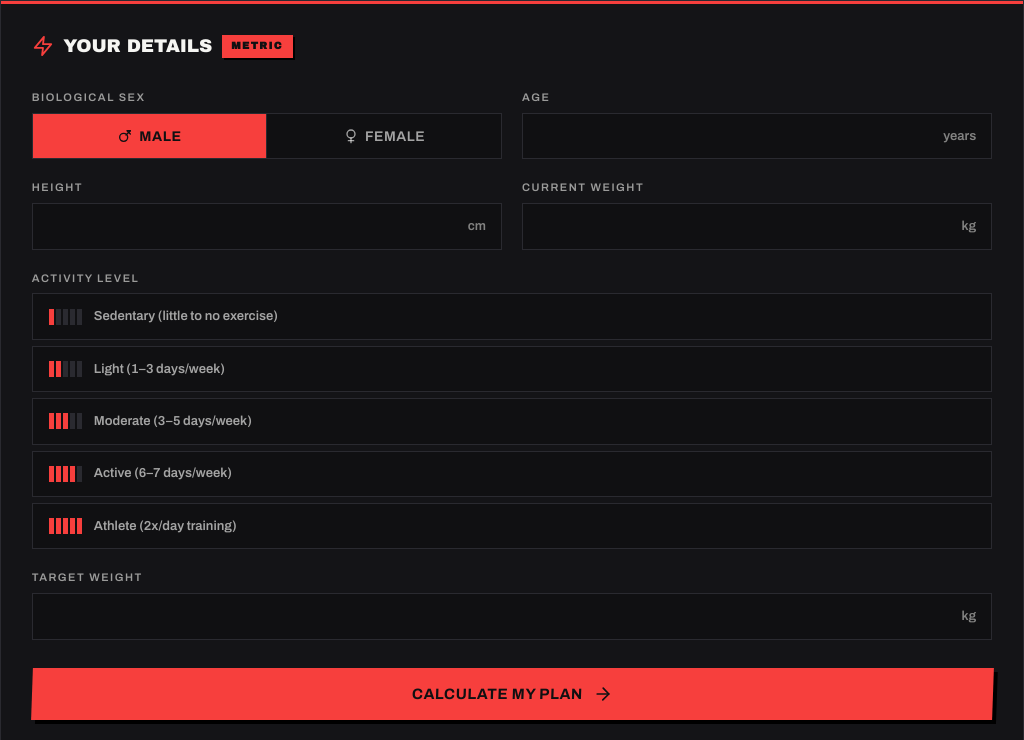
UserForm › validation › clears error when user corrects a field
Submit with only sex filled
Click the button "Calculate My Plan" at {"x": 512, "y": 694}, box [31,668,993,720]
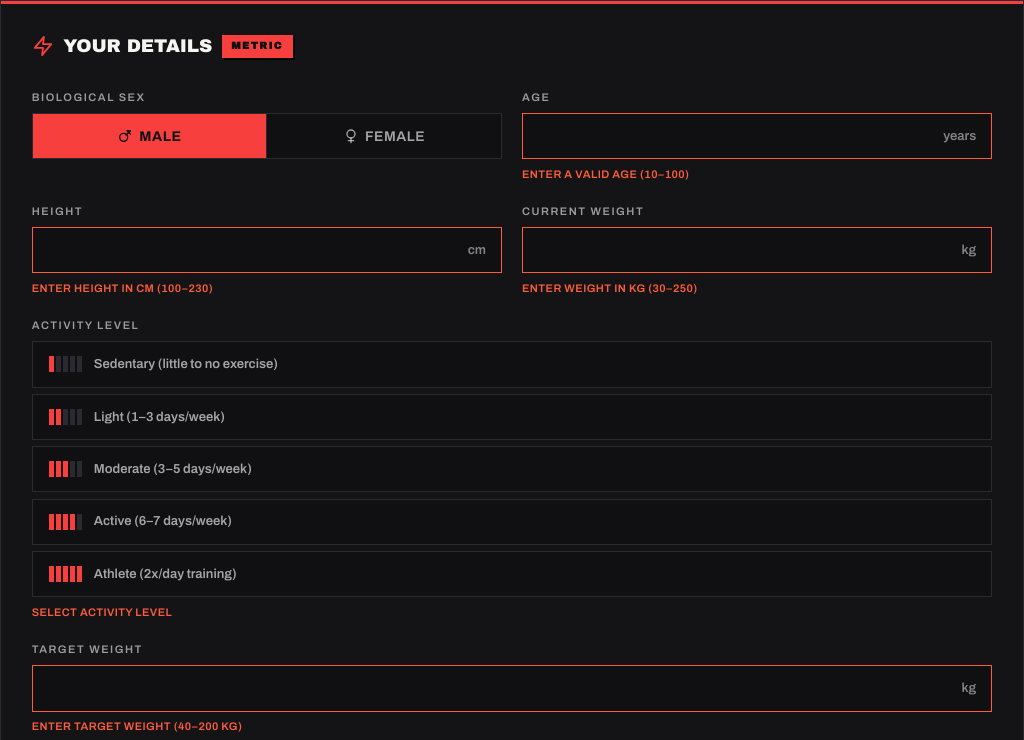
Result: the text "Enter a valid age (10–100)" is shown at [522,168,689,180]
Find the age input specifically via its containing field-group
Type "25" into the number field next to "years" at {"x": 757, "y": 136}, box [522,113,992,159]
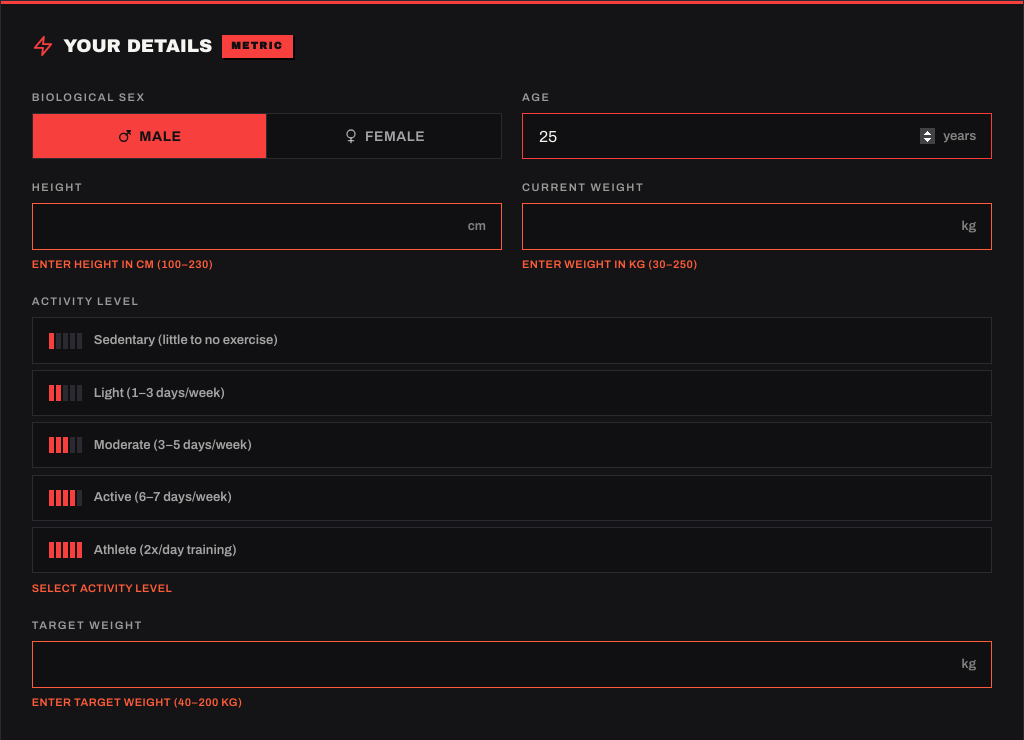
Result: the text "Enter a valid age (10–100)" is gone
